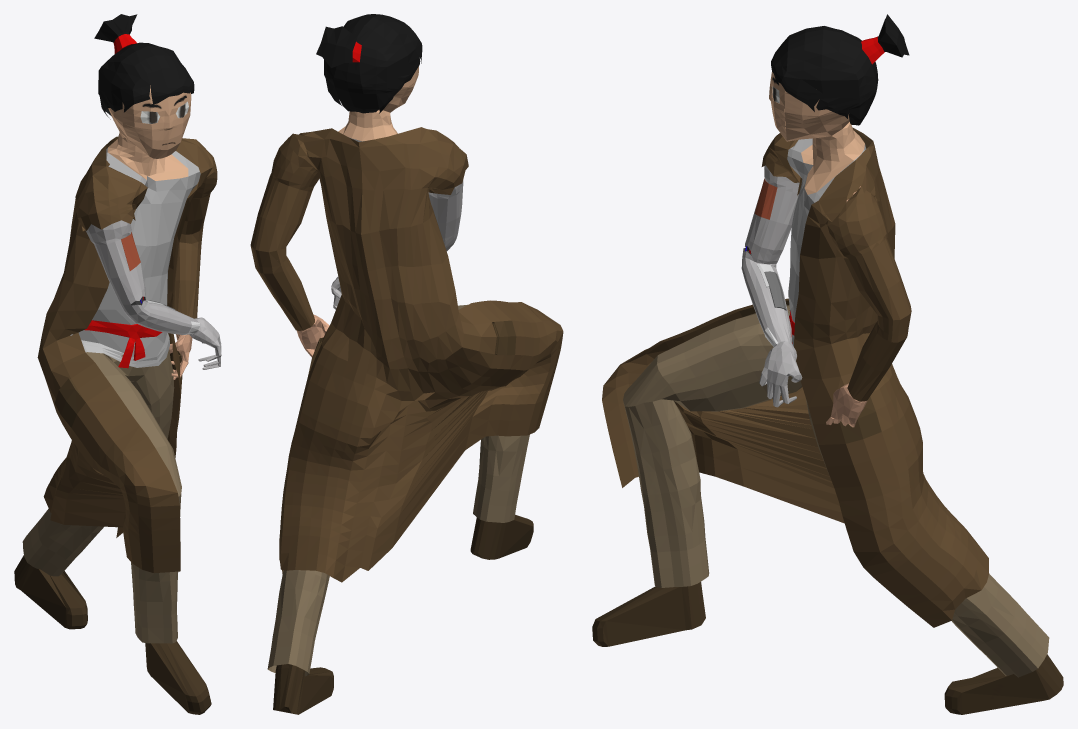
File: One_RR_000023.obj
3 renders of one model, left to right at view 1: azimuth 30°, elevation 25°; view 2: azimuth 150°, elevation 25°; view 3: azimuth 270°, elevation 25°, orthographic. The views are drawn at different scales.
Visible parts, largest first — view 1: Hair_Cube.004; view 2: Hair_Cube.004; view 3: Hair_Cube.004.
Boxes of the visible parts, x1=… form: Hair_Cube.004: x1=14, y1=14, x2=221, y2=714; Hair_Cube.004: x1=250, y1=14, x2=563, y2=714; Hair_Cube.004: x1=592, y1=14, x2=1063, y2=714.
Size of the model in its own units: 1.19 by 3.66 by 2.24.
